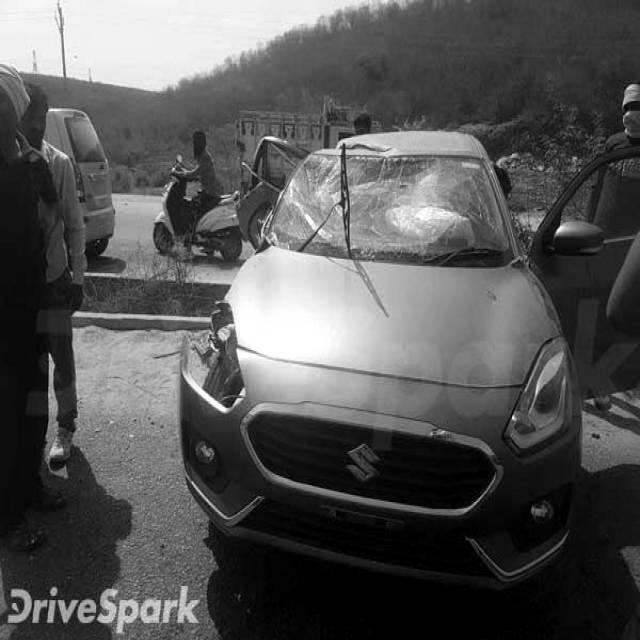Front-windscreen-damage: (248, 145, 517, 278)
